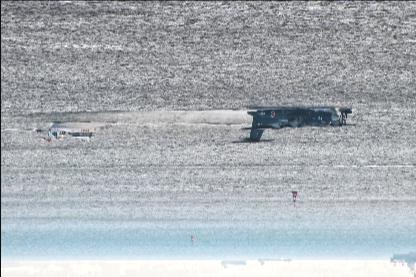Tu95: (229, 108, 355, 144)
